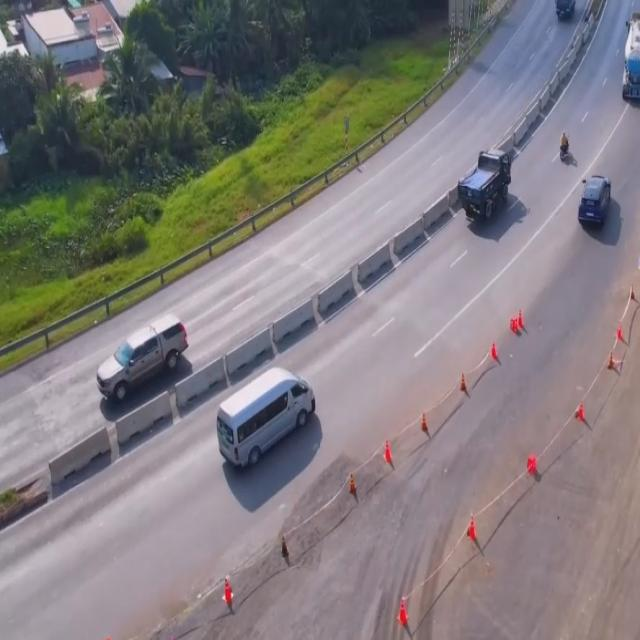car: (218, 368, 320, 480), (96, 312, 186, 400), (578, 177, 614, 234)
motorbike: (557, 132, 572, 160)
truck: (458, 150, 512, 224), (622, 0, 640, 105)
